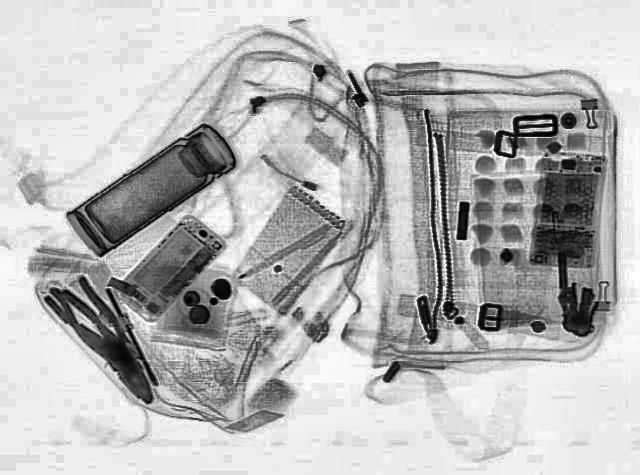Pliers: (44, 275, 170, 409)
